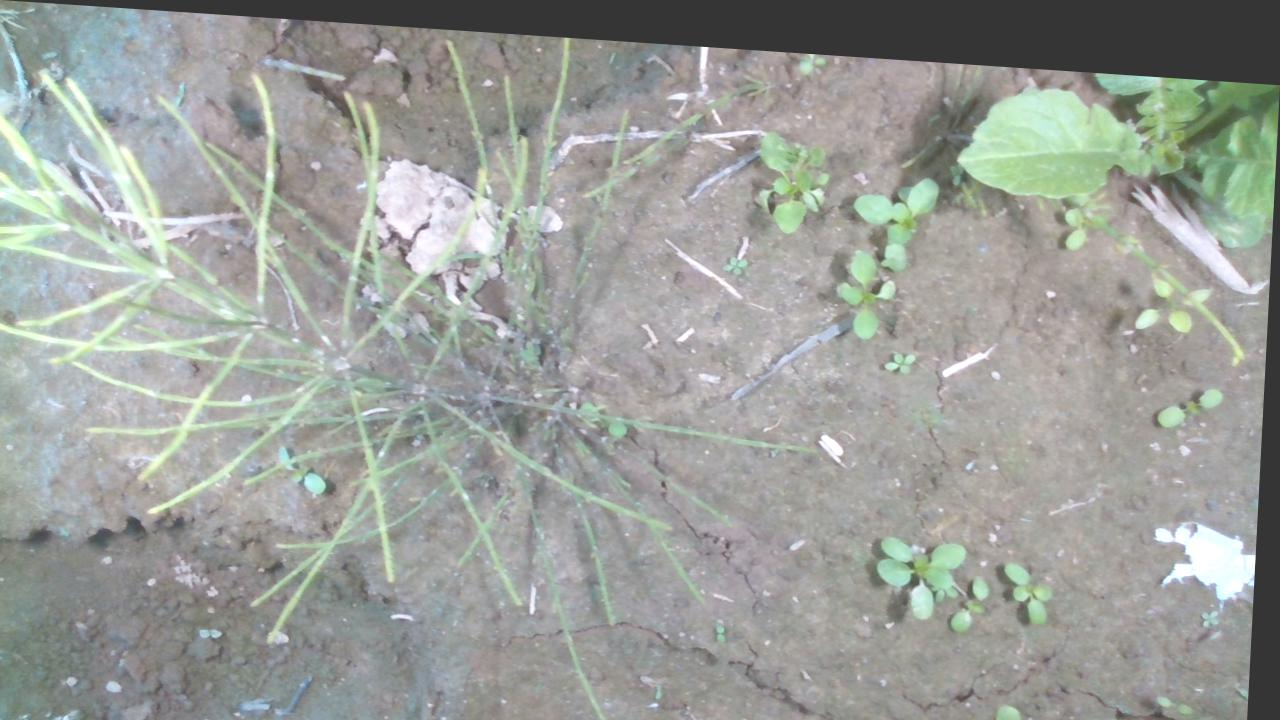weed: (1005, 545, 1060, 610), (1158, 366, 1227, 414), (882, 337, 919, 363), (722, 241, 750, 265), (889, 708, 935, 719), (1204, 588, 1225, 609)
